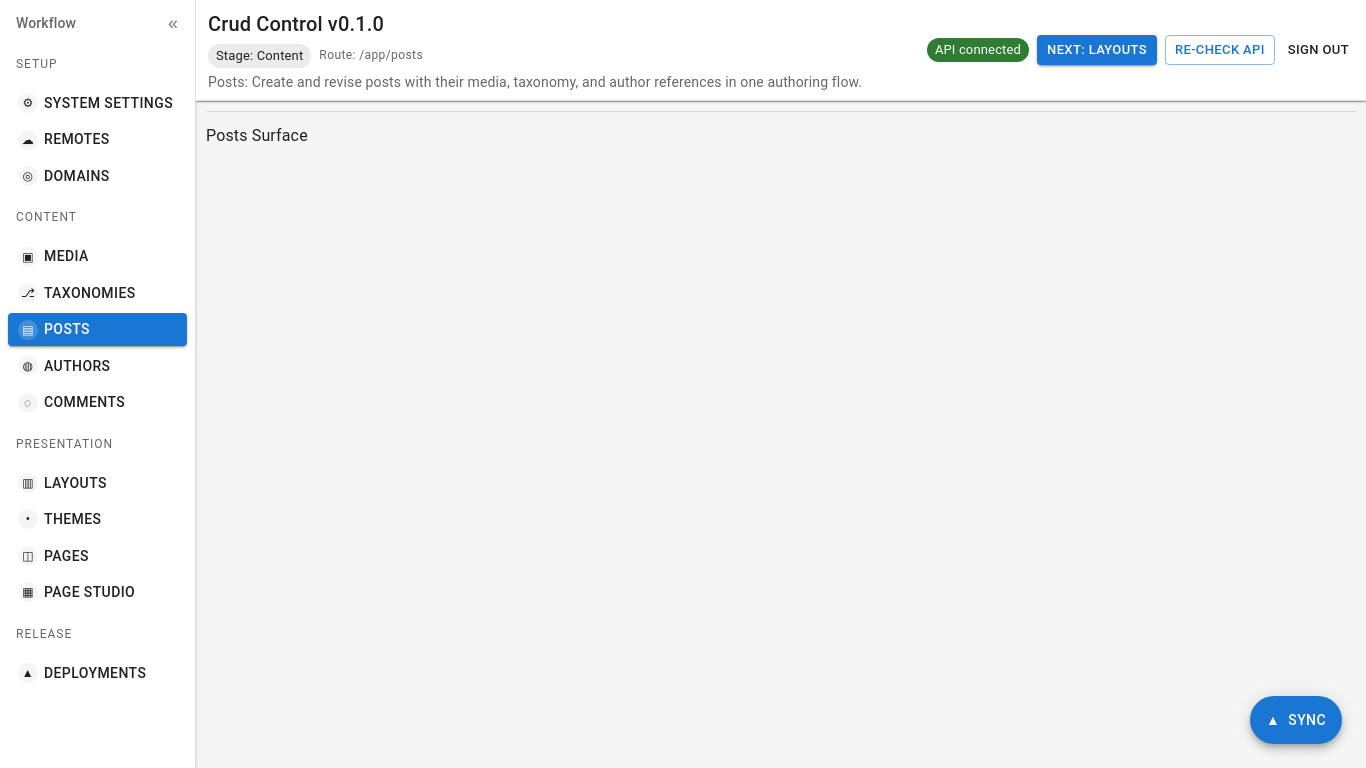
Scenario: sidebar can collapse to icon-only mode and keeps route discovery via button labels
The width and height of the screenshot is (1366, 768).
Click the button named "Collapse sidebar" at (173, 24), box [163, 8, 183, 39]
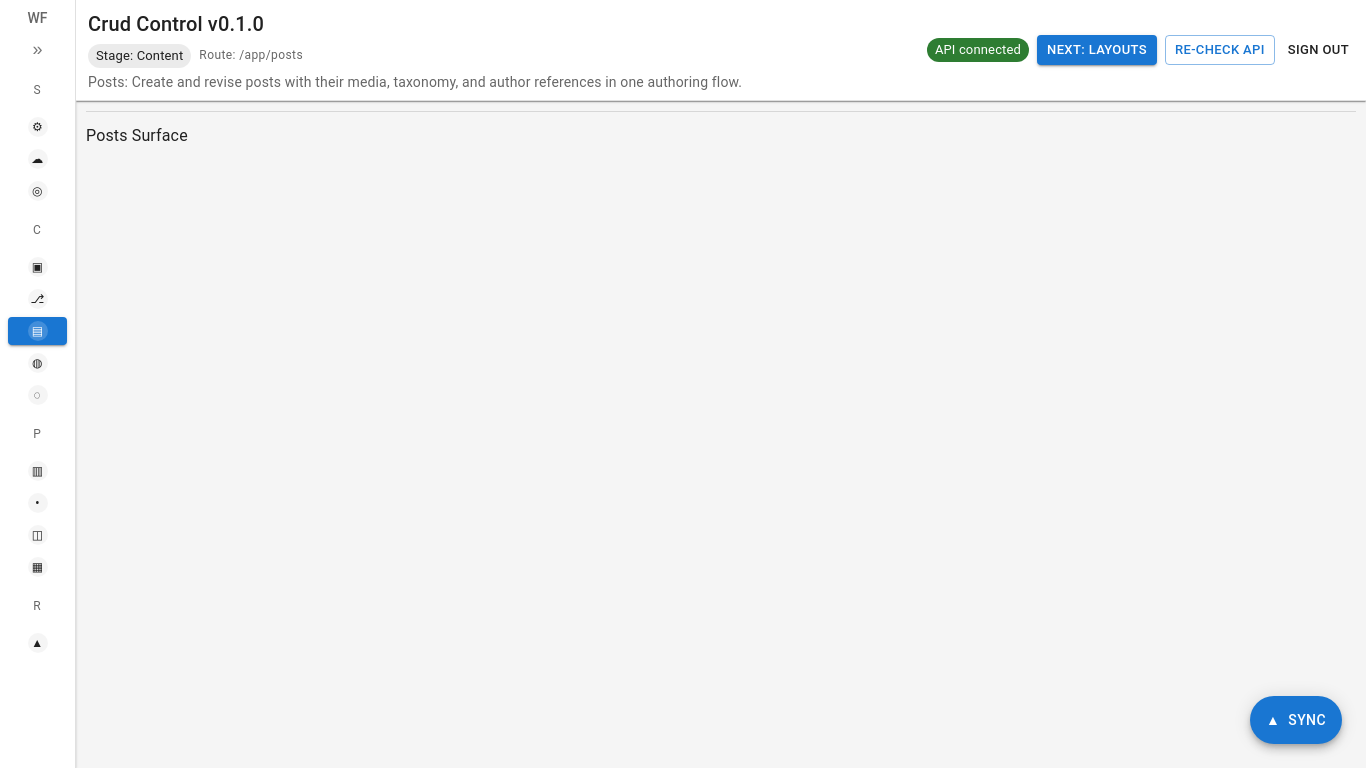
Check: the button named "Posts" is shown, box [8, 317, 67, 345]
Check: the heading "Workflow" is gone
Check: the button named "Expand sidebar" is shown, box [28, 34, 48, 65]
